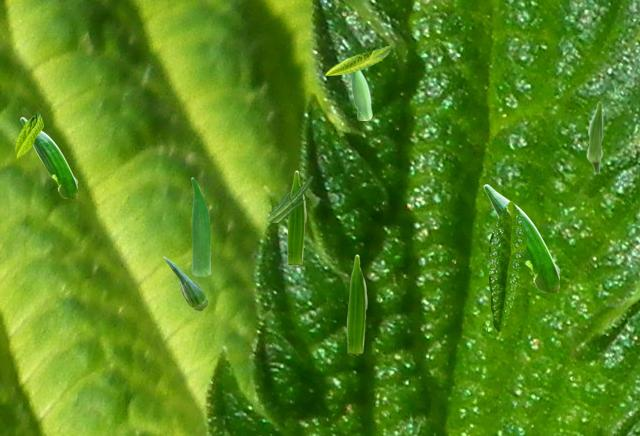okra: (483, 184, 558, 291), (20, 117, 76, 197), (163, 256, 207, 310), (347, 254, 366, 352), (191, 177, 209, 275), (287, 170, 305, 263), (586, 101, 602, 173), (351, 71, 371, 119), (345, 320, 346, 336)
